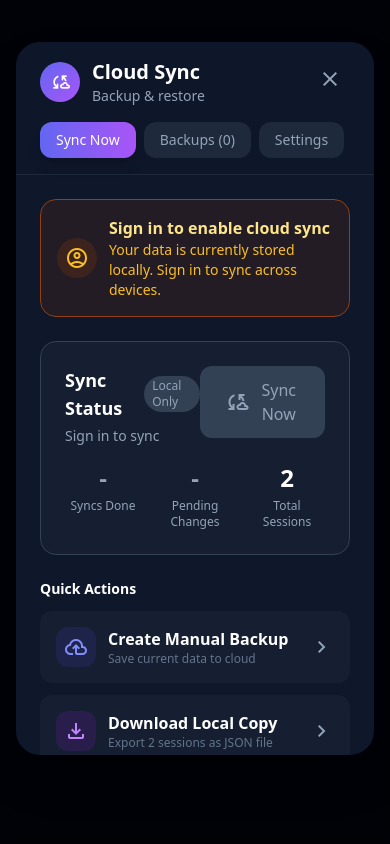
Test case: CloudSyncModal › Settings Tab › should disable settings when not logged in
Click the button "Settings" at (302, 140), box [259, 122, 344, 158]
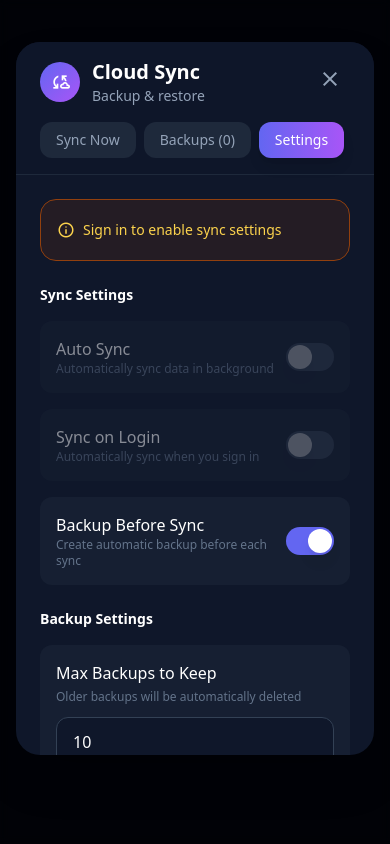
Expected: the text "Sign in to enable sync settings" is shown, [83, 220, 282, 240]
